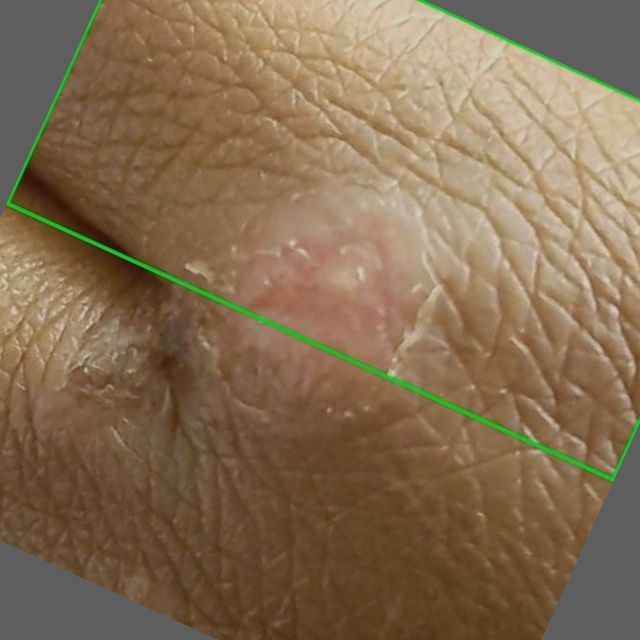Eczema: (6, 0, 639, 480)
